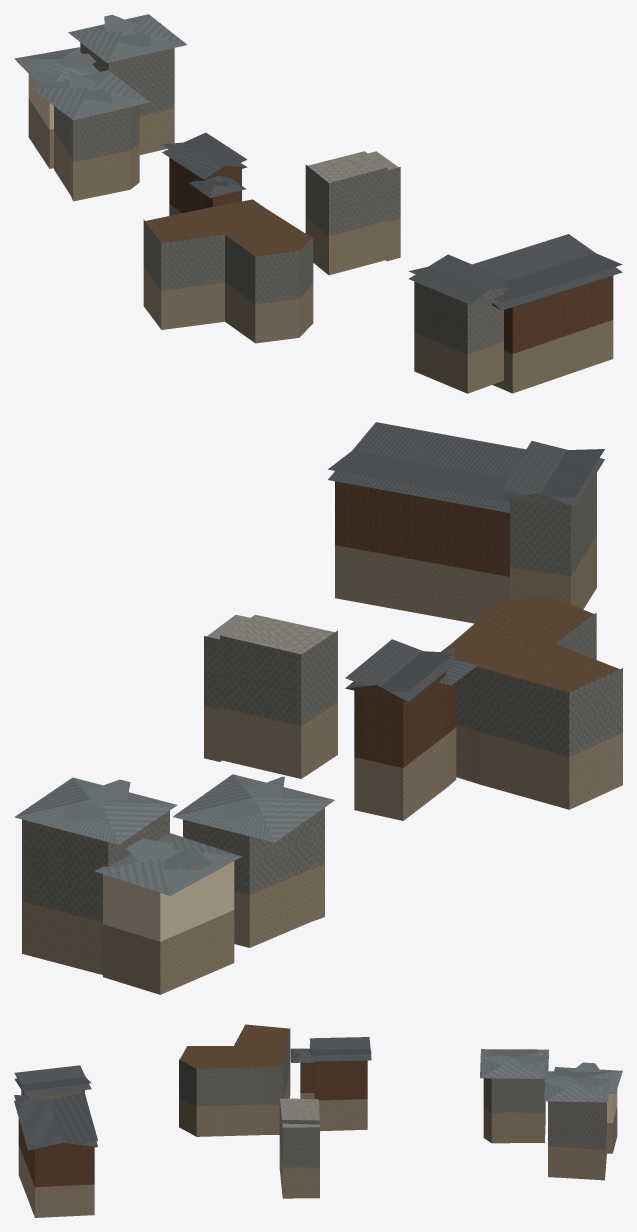
File: bld_c36_-28_444.gltf
3 renders of one model, top to bottom at view 1: azimuth 30°, elevation 25°; view 2: azimuth 150°, elevation 25°; view 3: azimuth 270°, elevation 25°, orthographic. The views are drawn at different scales.
Visible parts, largest first — view 1: bld_c36_-28_444; view 2: bld_c36_-28_444; view 3: bld_c36_-28_444.
Boxes of the visible parts, bbox=[...] form: bld_c36_-28_444: bbox=[14, 14, 622, 393]; bld_c36_-28_444: bbox=[14, 422, 622, 994]; bld_c36_-28_444: bbox=[14, 1024, 622, 1217].
Bounding box in the file's own units: 43.77 × 15.2 × 91.64.
10 materials, 10 textured.
